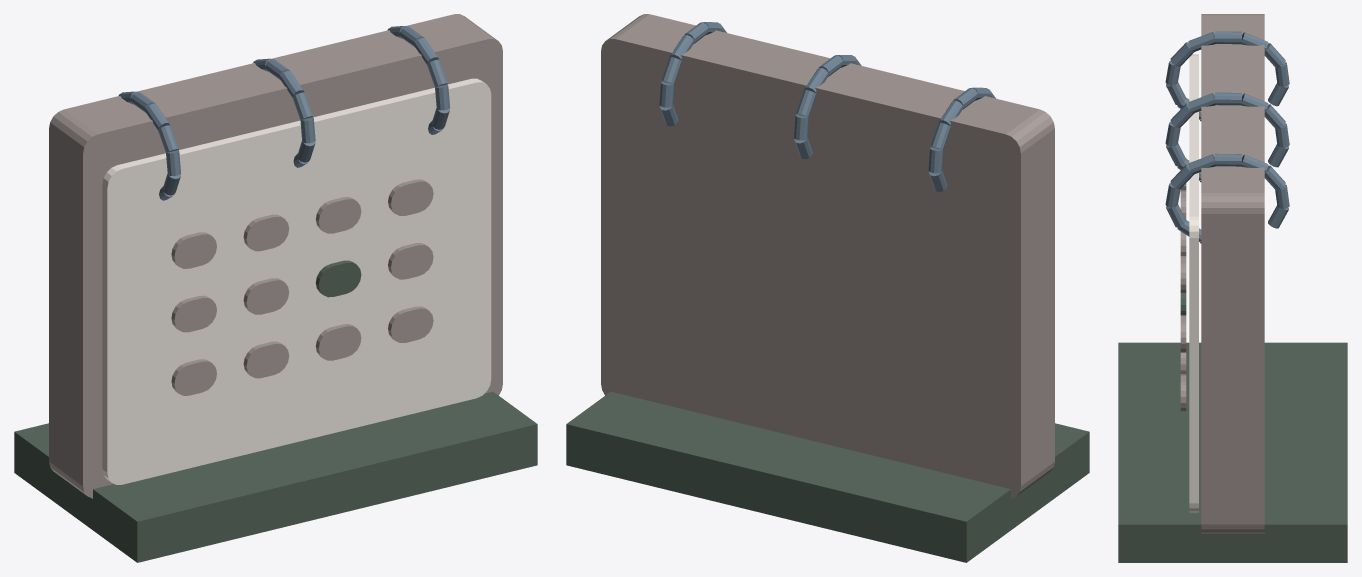
File: deskcalendar.glb
3 renders of one model, left to right at view 1: azimuth 30°, elevation 25°; view 2: azimuth 150°, elevation 25°; view 3: azimuth 270°, elevation 25°, orthographic. The views are drawn at different scales.
Visible parts, largest first — view 1: calendar page, binding board, rear foot, day 1, day 9, day 4, marked date, day 3, day 5, day 11, day 0, day 7 (+3 smaller); view 2: binding board, rear foot; view 3: rear foot, binding board, calendar page, loop16, loop06, loop26, loop15, loop25, loop05, loop04, loop14, loop24 (+3 smaller).
Boxes of the visible parts, box(x1,y1,x2,y2) form: calendar page: box(102, 78, 491, 484); binding board: box(49, 14, 502, 498); rear foot: box(14, 391, 537, 562); day 1: box(243, 214, 289, 251); day 9: box(243, 341, 289, 378); day 4: box(171, 295, 216, 332); marked date: box(316, 260, 361, 297); day 3: box(388, 179, 433, 215); day 5: box(243, 278, 289, 314); day 11: box(388, 306, 433, 342); day 0: box(171, 232, 216, 268); day 7: box(388, 243, 433, 279); binding board: box(601, 14, 1054, 498); rear foot: box(566, 391, 1089, 562); rear foot: box(1118, 342, 1347, 562); binding board: box(1201, 14, 1264, 533); calendar page: box(1189, 54, 1198, 512); loop16: box(1215, 92, 1241, 105); loop06: box(1215, 31, 1241, 44); loop26: box(1215, 153, 1241, 166); loop15: box(1188, 93, 1215, 113); loop25: box(1188, 154, 1215, 174); loop05: box(1188, 32, 1215, 52); loop04: box(1170, 42, 1193, 66); loop14: box(1170, 103, 1193, 127); loop24: box(1170, 164, 1193, 188).
Bounding box in the file's own units: 1.28 × 1.18 × 0.65.
